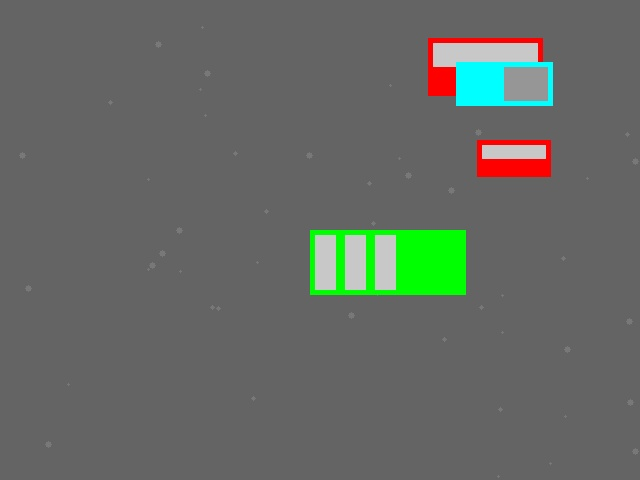bus: (310, 230, 465, 294)
car: (428, 38, 542, 95), (477, 140, 550, 176)
truck: (456, 62, 552, 105)
